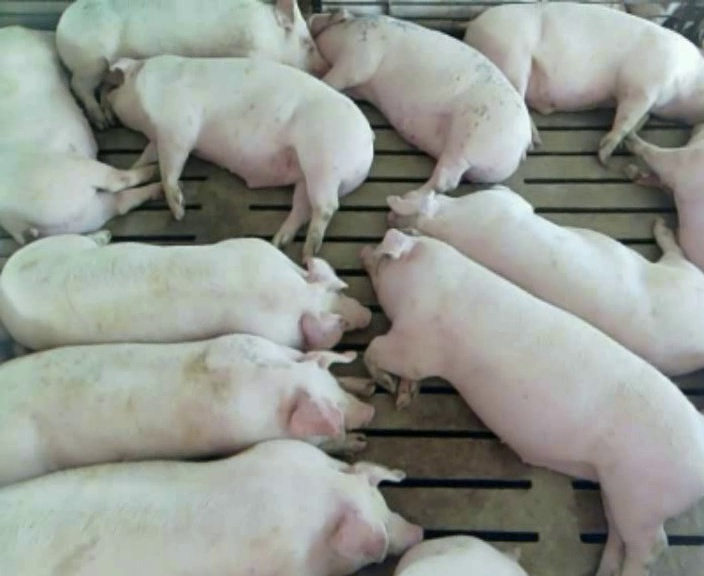pig: (364, 229, 703, 573), (388, 186, 703, 374), (0, 334, 374, 484), (0, 440, 421, 573), (105, 55, 372, 258), (310, 13, 530, 191), (625, 123, 703, 269), (395, 535, 526, 575)
